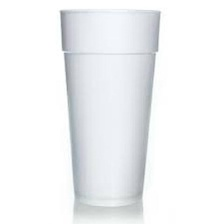paper_cup: (52, 3, 164, 213)
